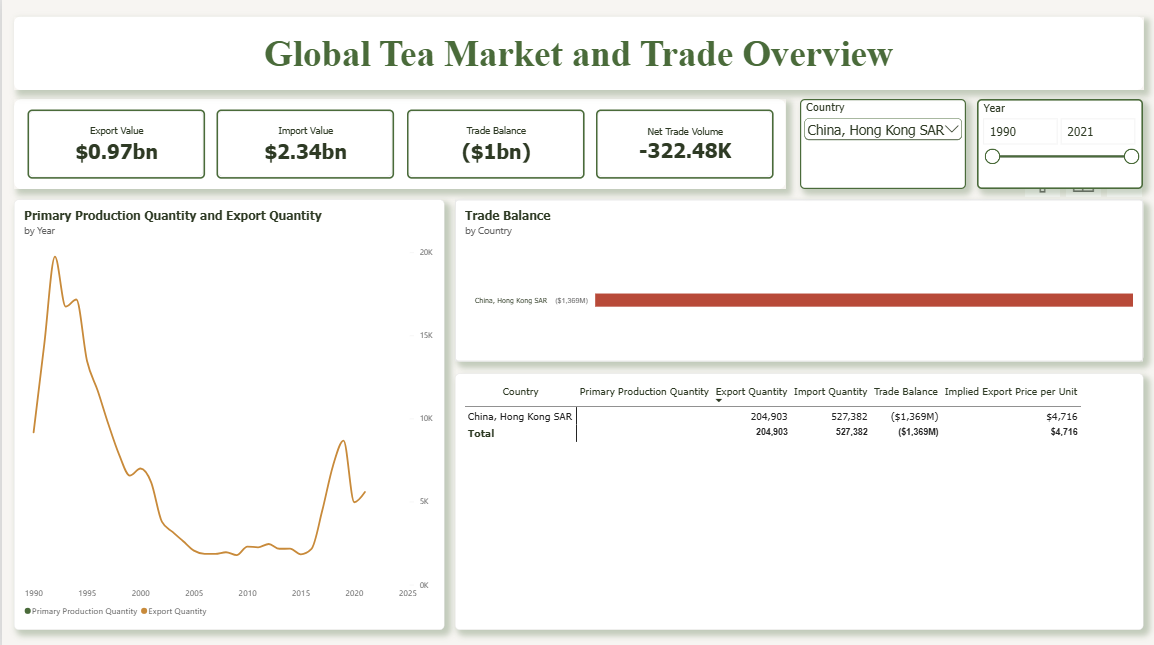

This screenshot's page, from the dashboard's own definition file:
{"tool":"powerbi","page":{"name":"Page 1","canvas":[1920,1080],"ordinal":0},"visuals":[{"type":"shape","box":[19.1,164.6,1286,150.3],"z":0},{"type":"lineChart","fields":{"Category":["Dim_Date.Year"],"Y":["_Measures.Primary Production Quantity"],"Y2":["_Measures.Export Quantity"]},"box":[20,332.5,717.5,717.5],"z":1000},{"type":"clusteredBarChart","fields":{"Category":["Dim_Country.Country"],"Y":["_Measures.Trade Balance"]},"box":[755,332.5,1147.5,270],"z":2000},{"type":"pivotTable","fields":{"Rows":["Dim_Country.Country"],"Values":["_Measures.Primary Production Quantity","_Measures.Export Quantity","_Measures.Import Quantity","_Measures.Trade Balance","_Measures.Implied Export Price per Unit"]},"box":[755,622.5,1147.5,427.5],"z":3000},{"type":"slicer","fields":{"Values":["Dim_Country.Country"]},"box":[1329,164.6,276.8,150.3],"z":4000},{"type":"slicer","fields":{"Values":["Dim_Date.Year"]},"box":[1624.8,164.6,276.8,150.3],"z":5000},{"type":"shape","box":[20,27.5,1882.5,122.5],"z":6000},{"type":"cardVisual","fields":{"Data":["_Measures.Export Value"]},"box":[42.5,182.5,296.2,115],"z":7000},{"type":"cardVisual","fields":{"Data":["_Measures.Import Value"]},"box":[356.2,182.5,296.2,115],"z":8000},{"type":"cardVisual","fields":{"Data":["_Measures.Trade Balance"]},"box":[673.8,182.5,296.2,115],"z":9000},{"type":"cardVisual","fields":{"Data":["_Measures.Net Trade Volume"]},"box":[990,182.5,296.2,115],"z":10000}]}

Visuals, with their boxes in screenshot pixels (x1, y1, x2, y2), scaled from the page's 1920x1080 canvas onto the 1154x645 screenshot:
shape: (left=11, top=98, right=784, bottom=188)
lineChart - Dim_Date.Year x _Measures.Primary Production Quantity: (left=12, top=199, right=443, bottom=627)
clusteredBarChart - Dim_Country.Country x _Measures.Trade Balance: (left=454, top=199, right=1143, bottom=360)
pivotTable - Dim_Country.Country x _Measures.Primary Production Quantity: (left=454, top=372, right=1143, bottom=627)
slicer - Dim_Country.Country: (left=799, top=98, right=965, bottom=188)
slicer - Dim_Date.Year: (left=977, top=98, right=1143, bottom=188)
shape: (left=12, top=16, right=1143, bottom=90)
cardVisual - _Measures.Export Value: (left=26, top=109, right=204, bottom=178)
cardVisual - _Measures.Import Value: (left=214, top=109, right=392, bottom=178)
cardVisual - _Measures.Trade Balance: (left=405, top=109, right=583, bottom=178)
cardVisual - _Measures.Net Trade Volume: (left=595, top=109, right=773, bottom=178)
